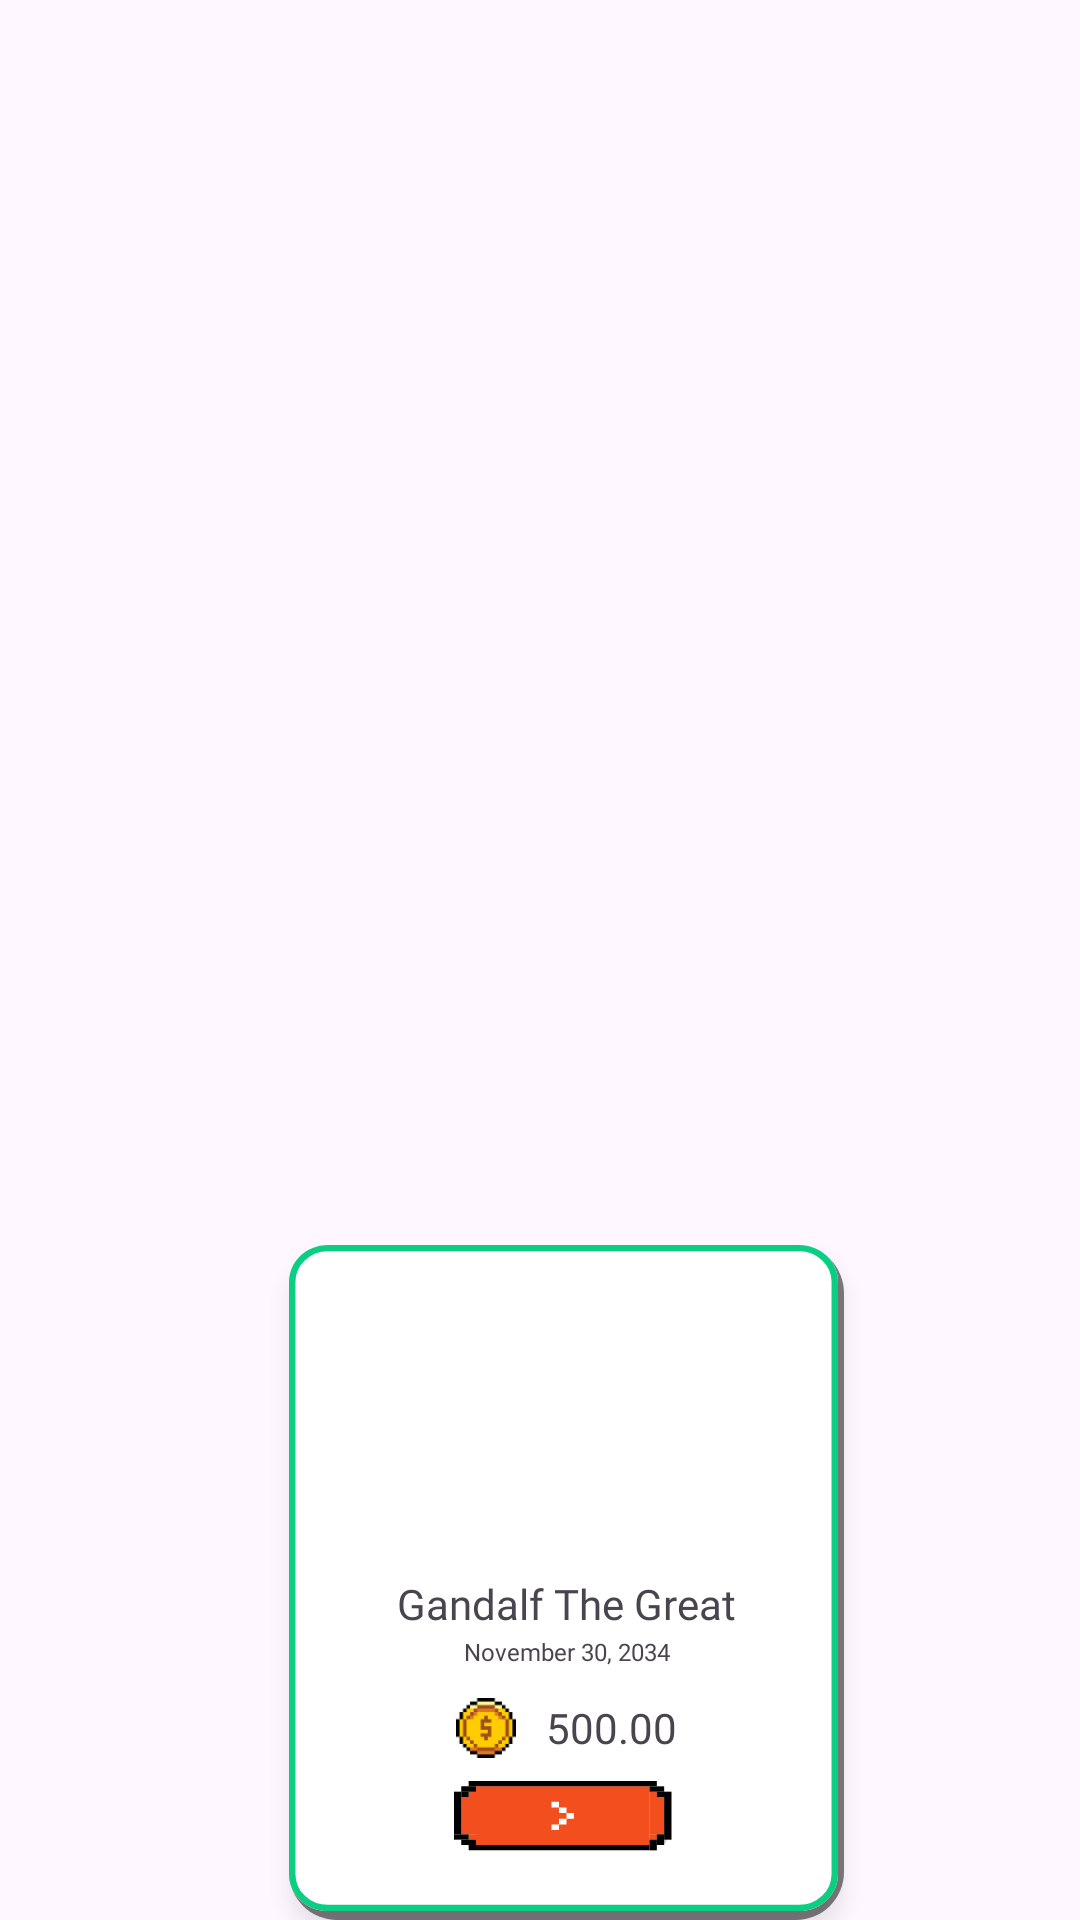

Named icons in this screenshot (1080px×1920px) and their centers, (x=x, y=y):
coin: (x=486, y=1728)
selectbtn: (x=563, y=1816)
